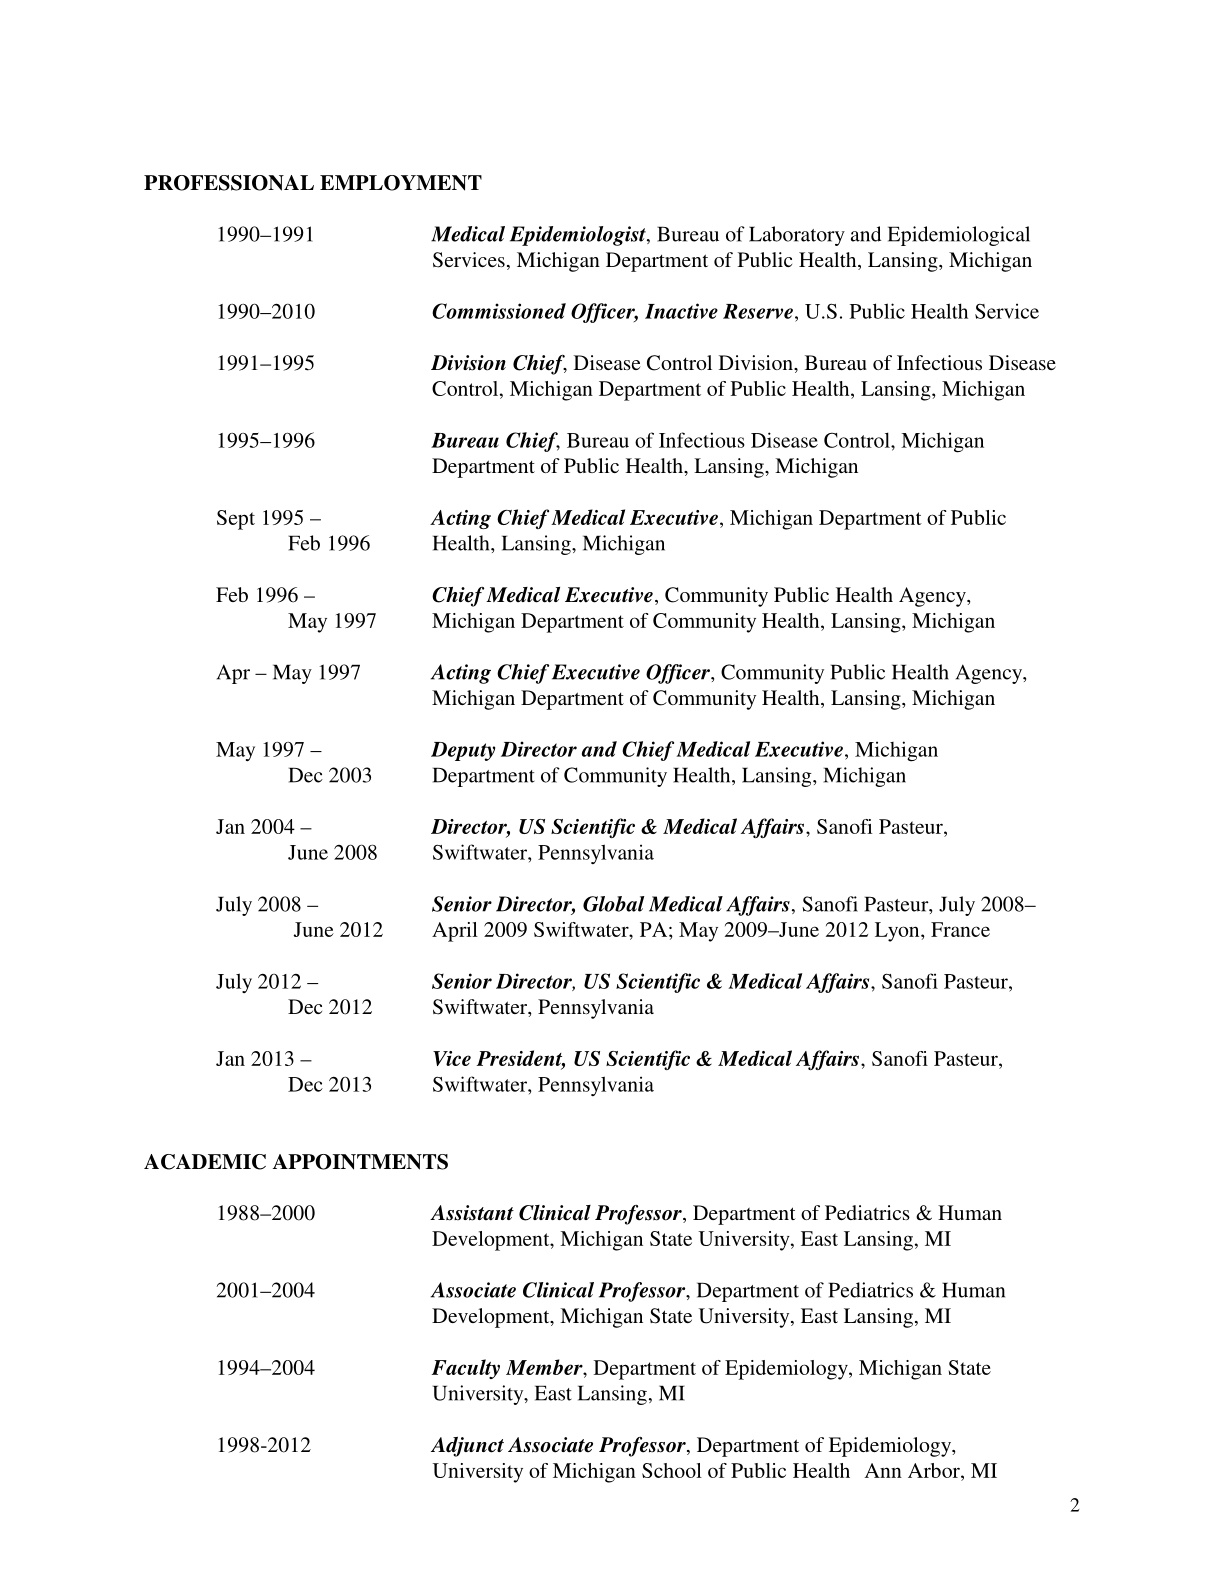nolines: (215, 222, 1057, 1099), (215, 1201, 1005, 1482)
